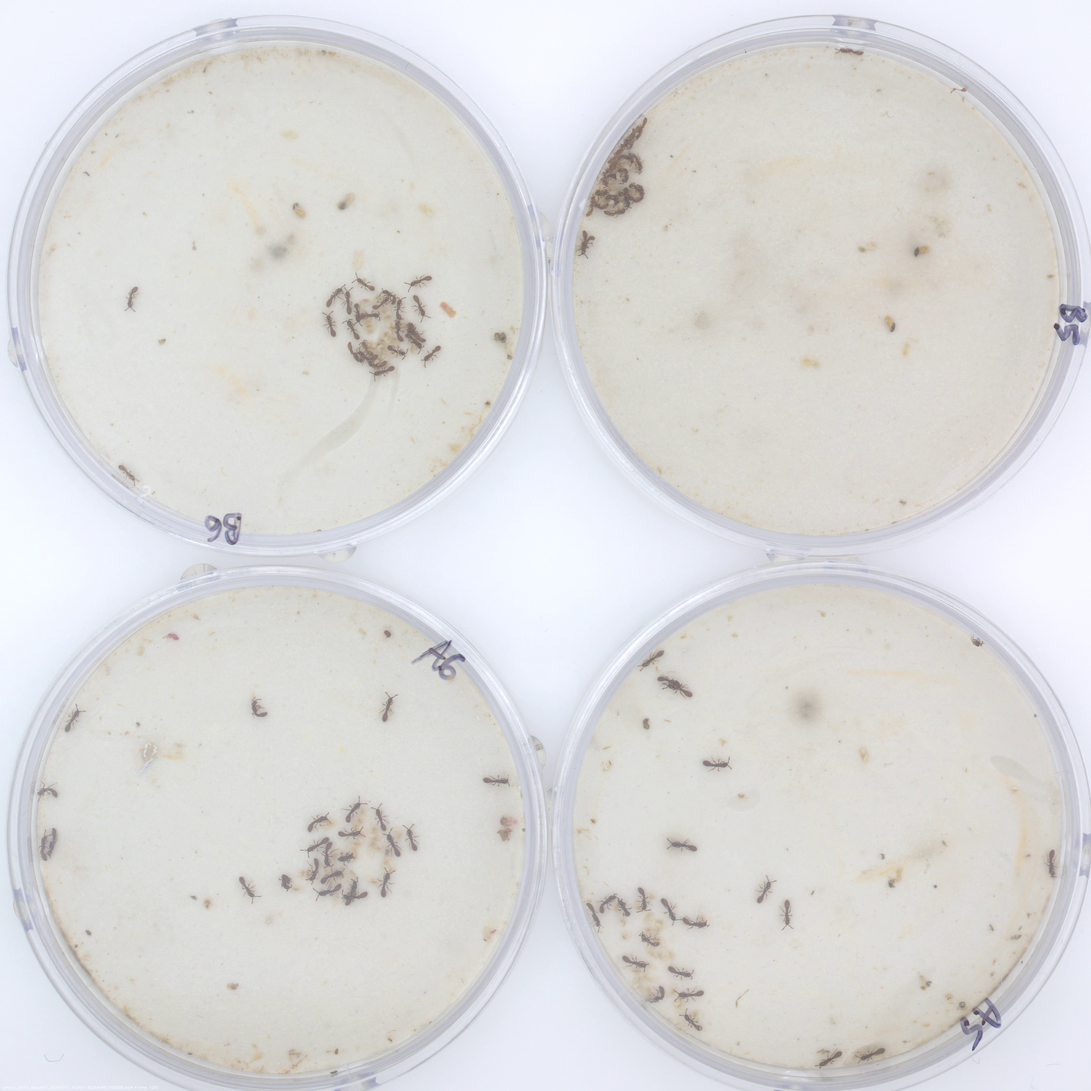brood: (593, 148, 643, 211), (362, 319, 422, 366), (356, 291, 394, 334), (324, 842, 357, 868), (632, 959, 662, 985), (367, 823, 384, 858), (641, 913, 665, 936), (645, 945, 675, 961), (635, 891, 656, 912), (313, 813, 339, 829), (353, 816, 366, 847), (293, 863, 314, 881), (383, 855, 396, 876), (347, 866, 362, 883), (698, 913, 710, 932), (284, 879, 303, 891), (366, 875, 385, 886), (390, 827, 402, 844), (649, 935, 665, 947), (360, 808, 373, 820), (615, 900, 625, 914), (674, 1000, 688, 1010), (646, 985, 655, 1000), (622, 930, 632, 942), (668, 984, 678, 996), (691, 1010, 703, 1020), (617, 917, 626, 928)
